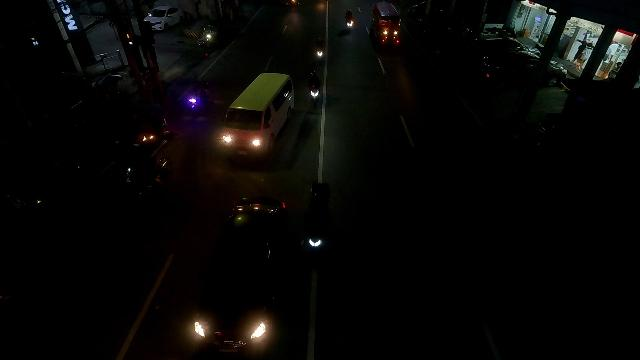jeepney: (370, 1, 402, 51)
motorcycle: (306, 69, 321, 107), (343, 7, 356, 35), (314, 38, 325, 63)
van: (217, 69, 294, 158)
